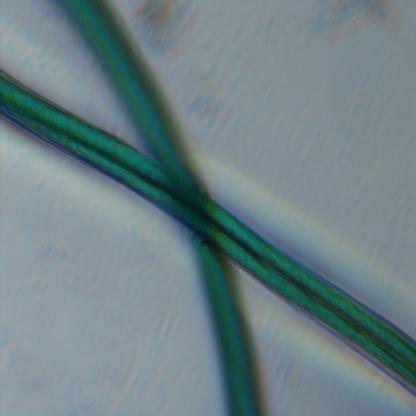Microfibre: (0, 70, 416, 388), (52, 0, 262, 416)
